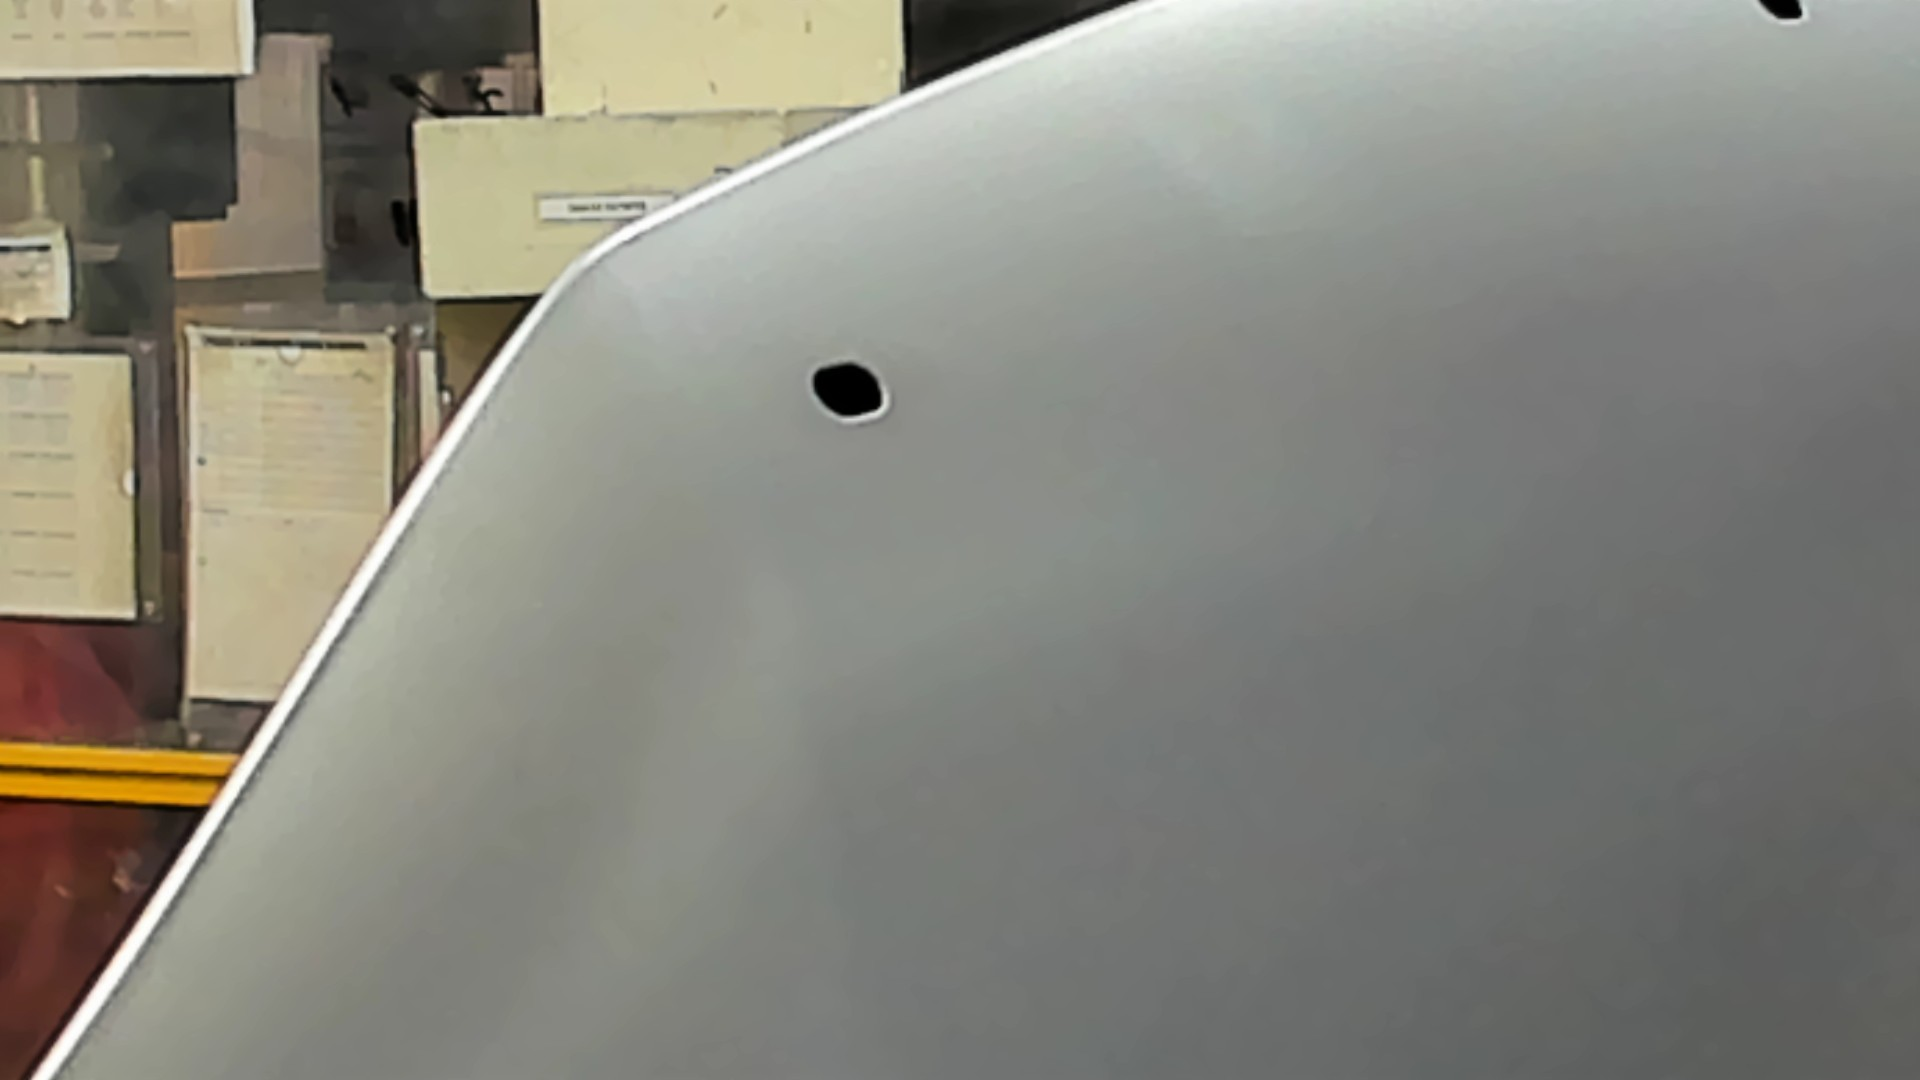amorfo: (807, 355, 887, 429), (1750, 1, 1818, 36)
